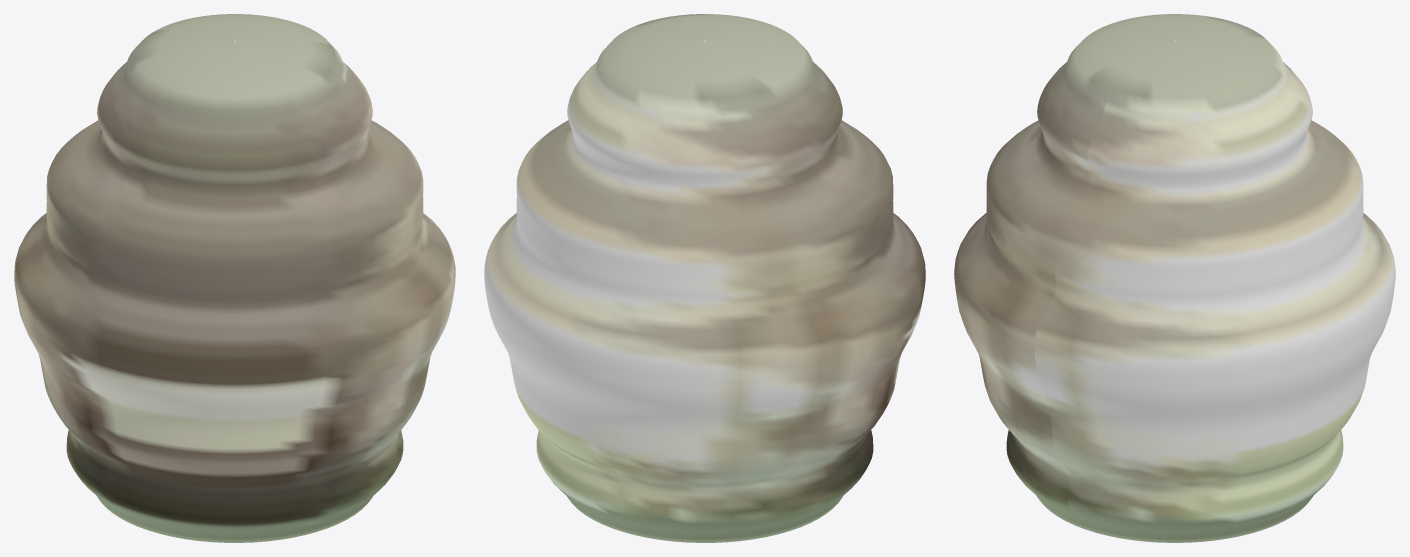
Rendered from stone-2.glb.
3 renders of one model, left to right at view 1: azimuth 30°, elevation 25°; view 2: azimuth 150°, elevation 25°; view 3: azimuth 270°, elevation 25°, orthographic.
Visible parts, largest first — view 1: stone-2; view 2: stone-2; view 3: stone-2.
Boxes of the visible parts, x1,y1,x2,y2 form: stone-2: (14, 14, 455, 542); stone-2: (484, 14, 925, 542); stone-2: (954, 14, 1395, 542).
Size of the model in its own units: 0.6023 by 0.6654 by 0.6023.
